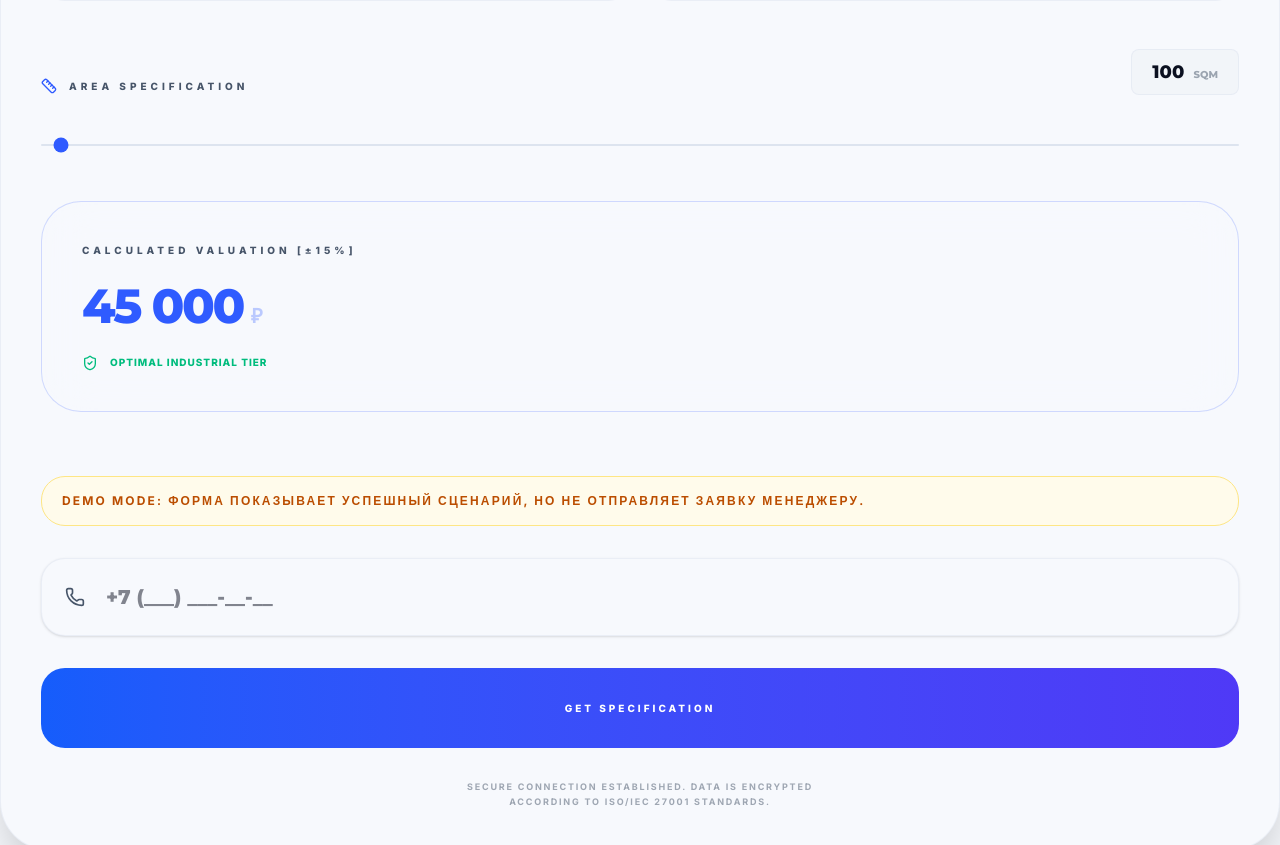
Test: CalculatorForm › shows validation error for invalid phone
(page scrolled)
Type "123" into the field with placeholder "+7 (___) ___-__-__". click: (640,597)
box: [41,558,1239,636]
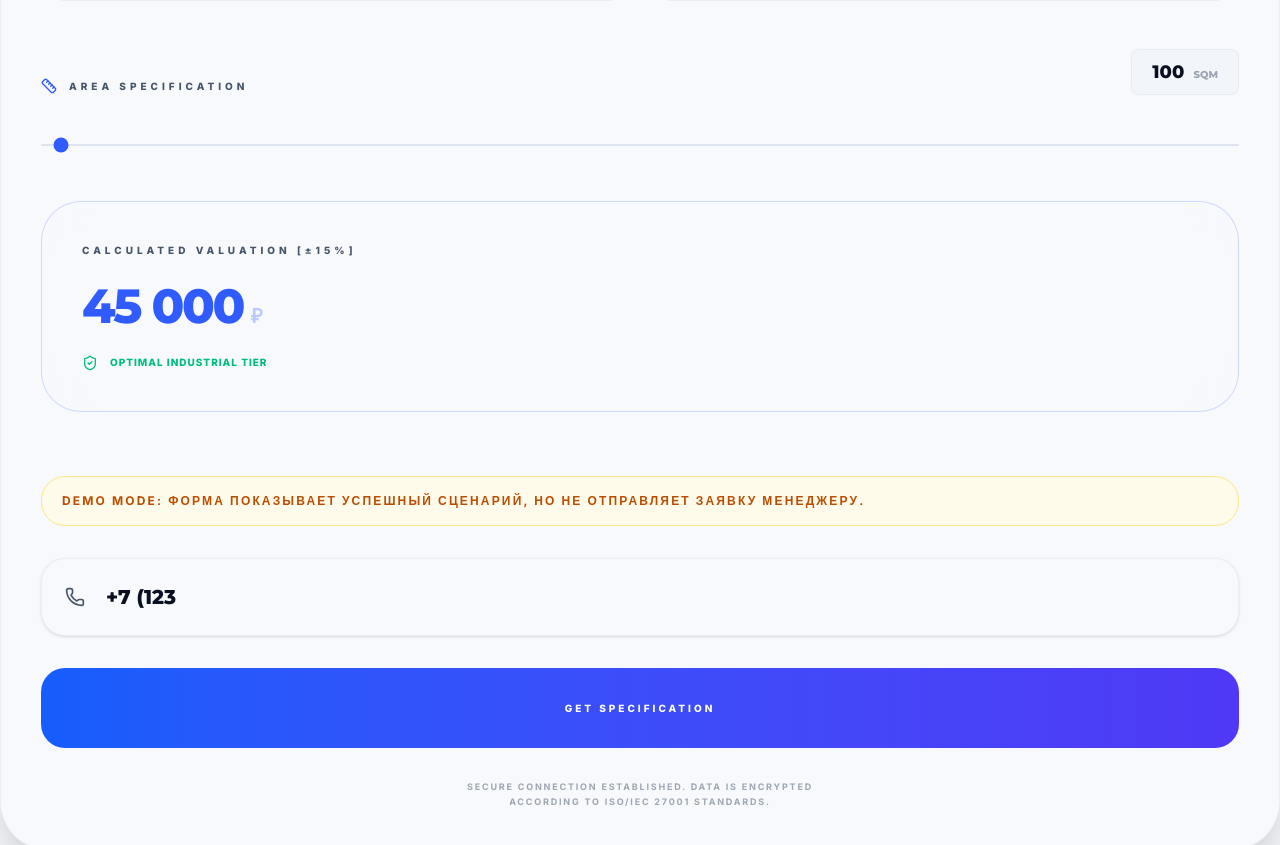
Click the button "GET SPECIFICATION". click: (640,708)
box: [41,668,1239,748]
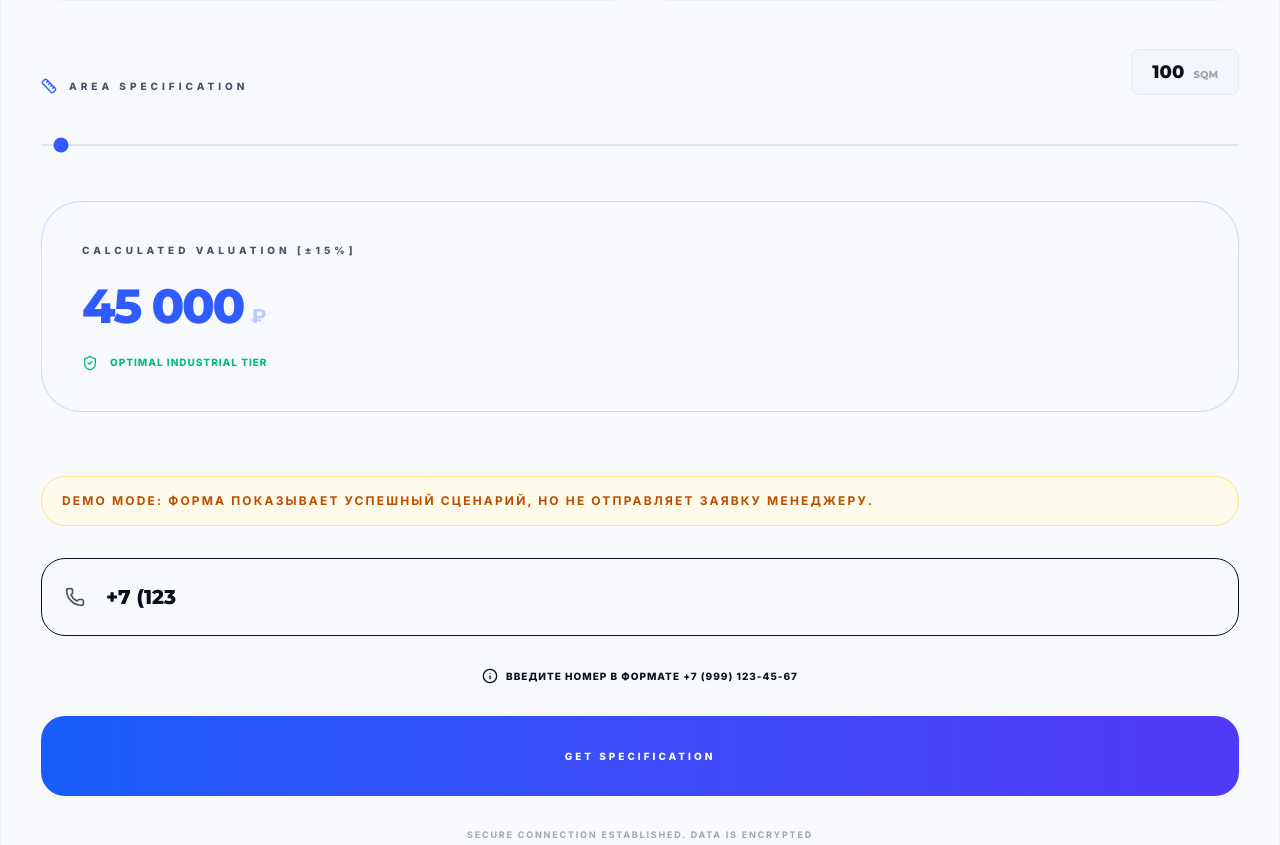
Expected: the text "Введите номер в формате +7 (999) 123-45-67" is shown, [506,668,798,684]
